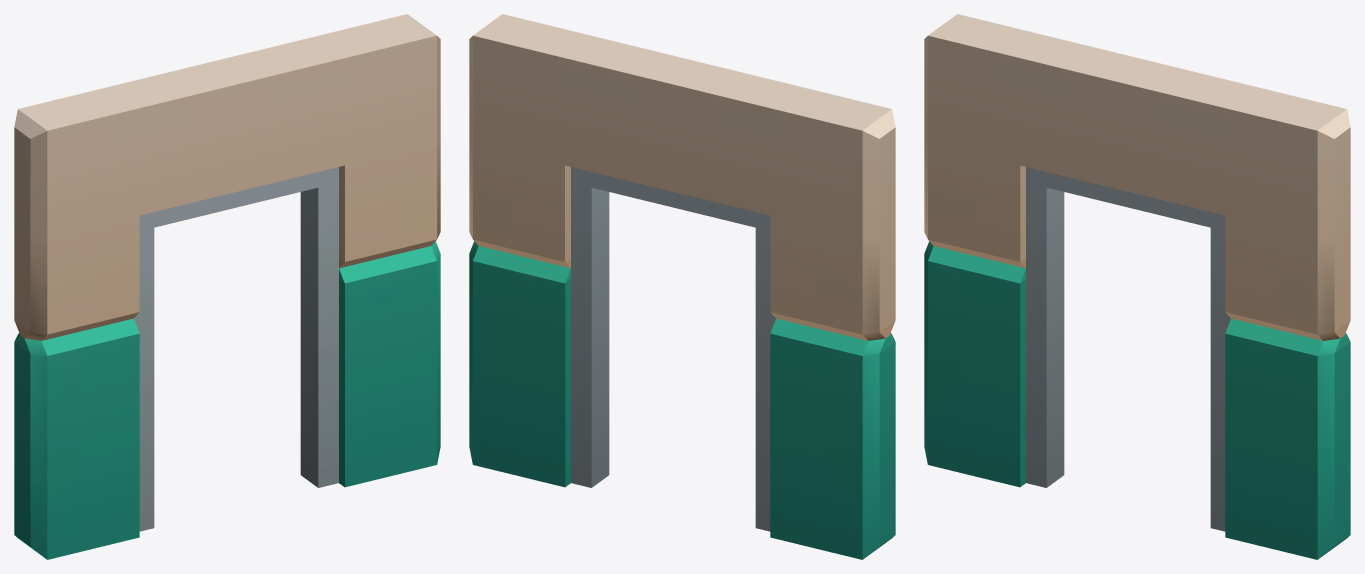
File: wall-doorway.glb
The picture shows the model from 3 angles, left to right: view 1: azimuth 30°, elevation 25°; view 2: azimuth 150°, elevation 25°; view 3: azimuth 330°, elevation 25°; orthographic projection.
Parts seen in each view (by area): view 1: wall_doorway; view 2: wall_doorway; view 3: wall_doorway.
Boxes of the visible parts, x1=… form: wall_doorway: x1=14, y1=14, x2=440, y2=559; wall_doorway: x1=469, y1=14, x2=895, y2=559; wall_doorway: x1=924, y1=14, x2=1350, y2=559.
Size of the model in its own units: 4 by 4 by 0.5.
1 material, 1 textured.
